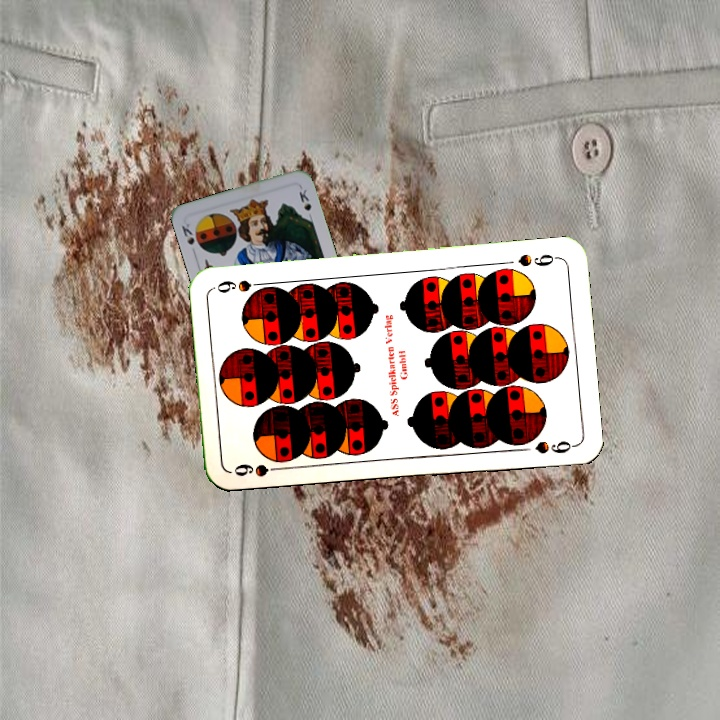S9: (229, 459, 288, 479), (514, 250, 561, 270)
SK: (177, 219, 197, 248)
